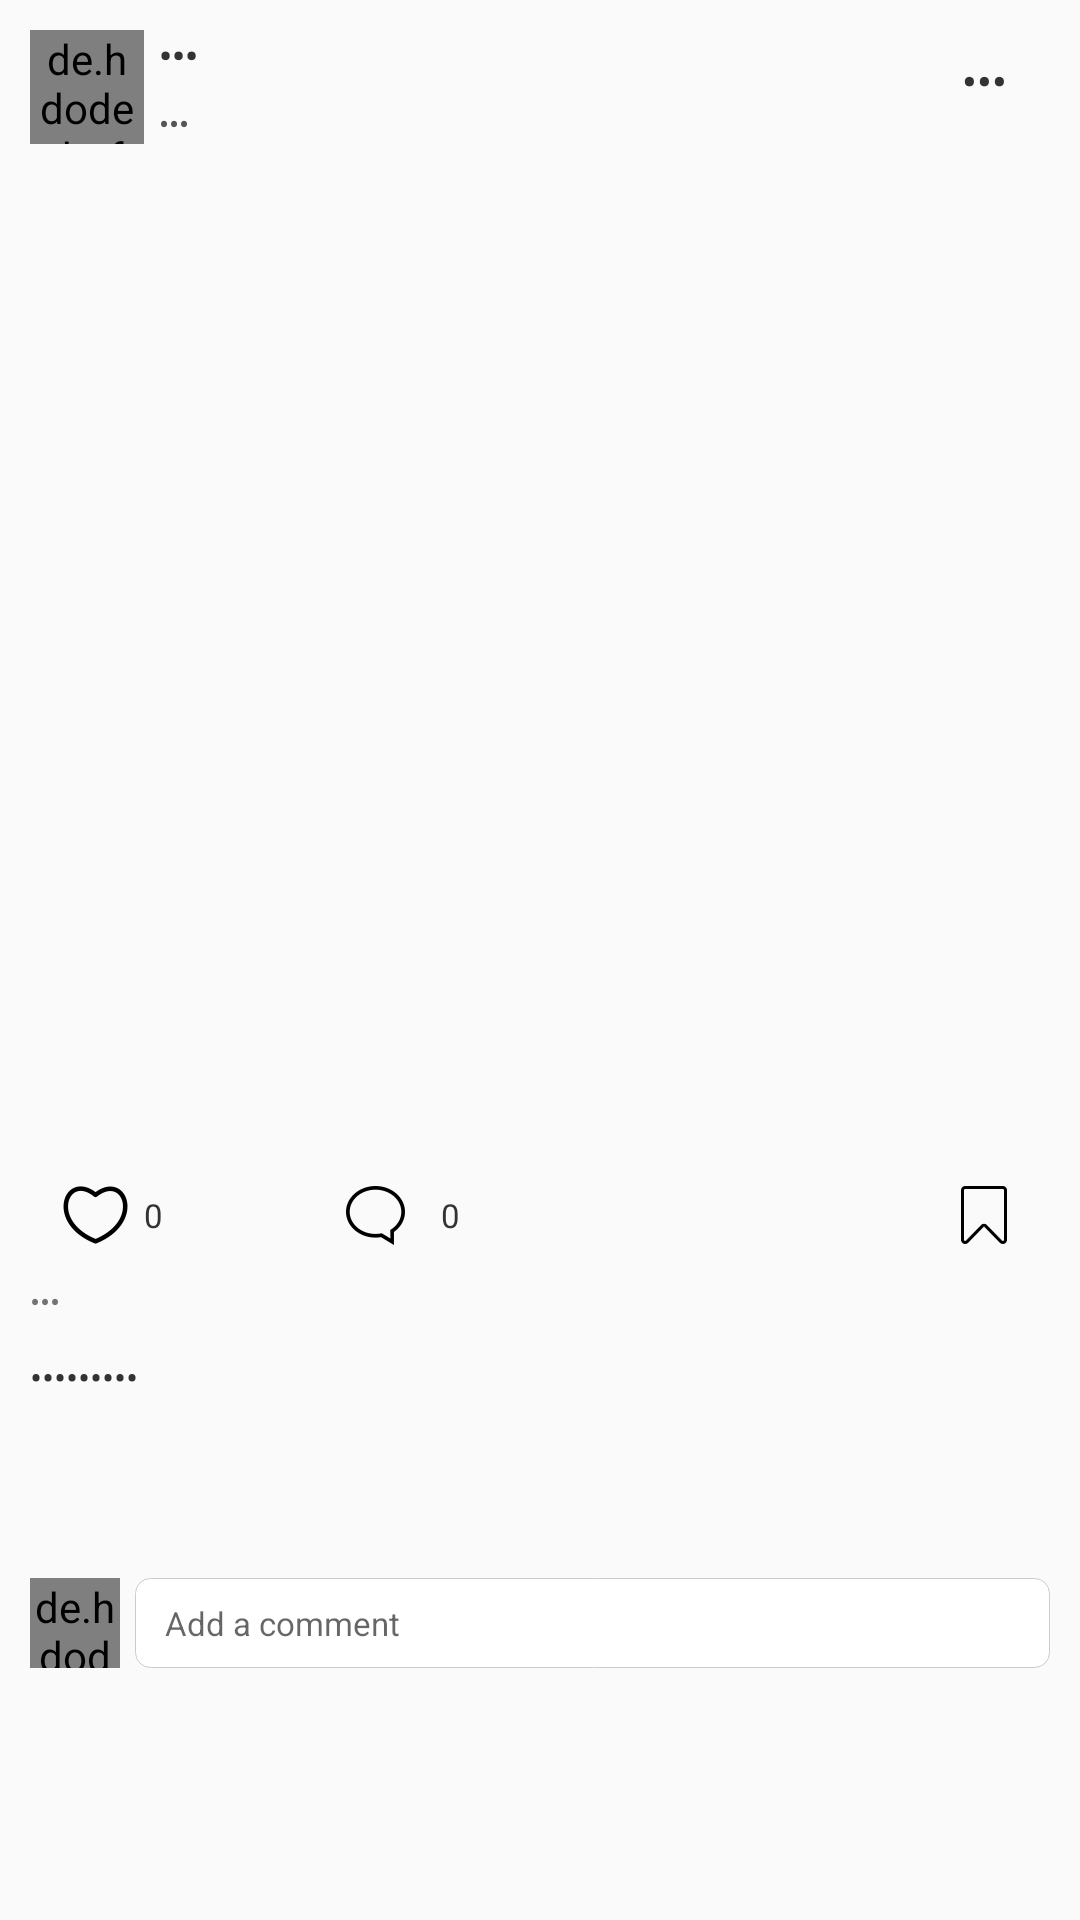

Icon bounding boxes for this 1080px x 1920px phone screenshot, format Rect(x1, y1, x2, y2):
bookmark butt: Rect(961, 1186, 1007, 1244)
comments butt: Rect(346, 1186, 405, 1245)
